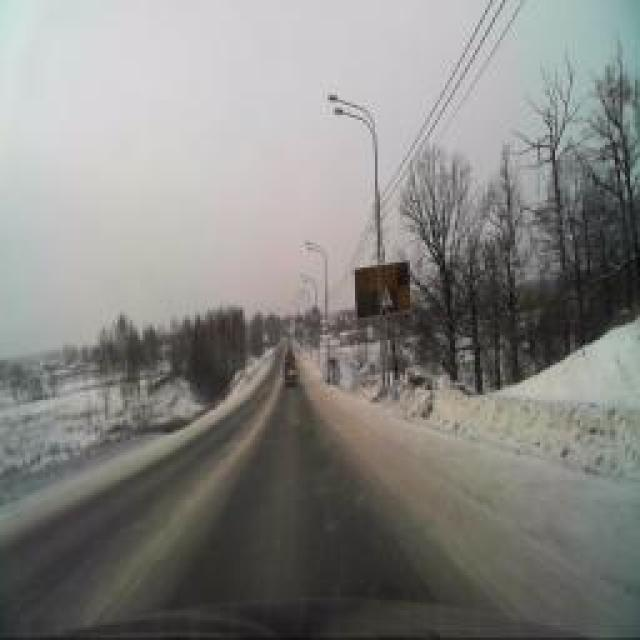sign: (380, 286, 395, 309), (382, 310, 396, 332)
